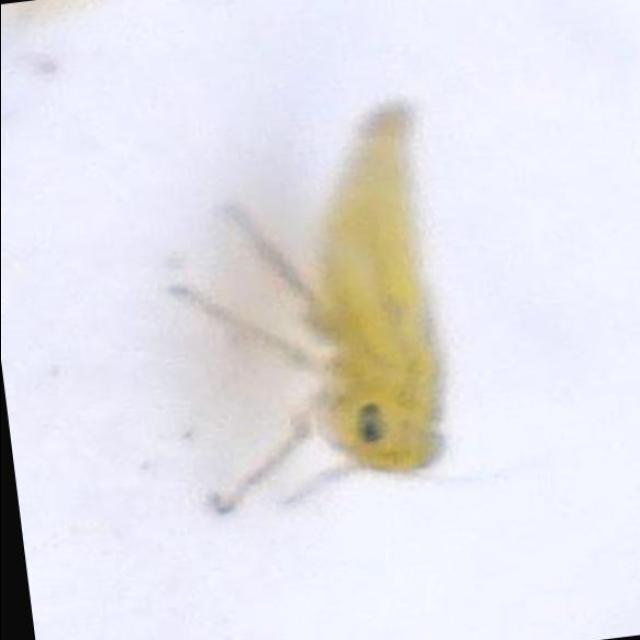green leaf hopper: (168, 104, 448, 516)
